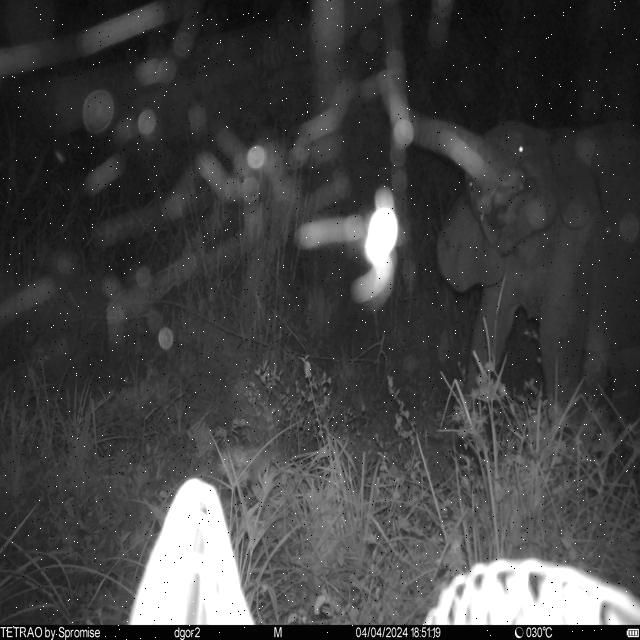calf: (398, 111, 640, 430)
ear: (438, 198, 508, 294), (548, 128, 608, 236)
